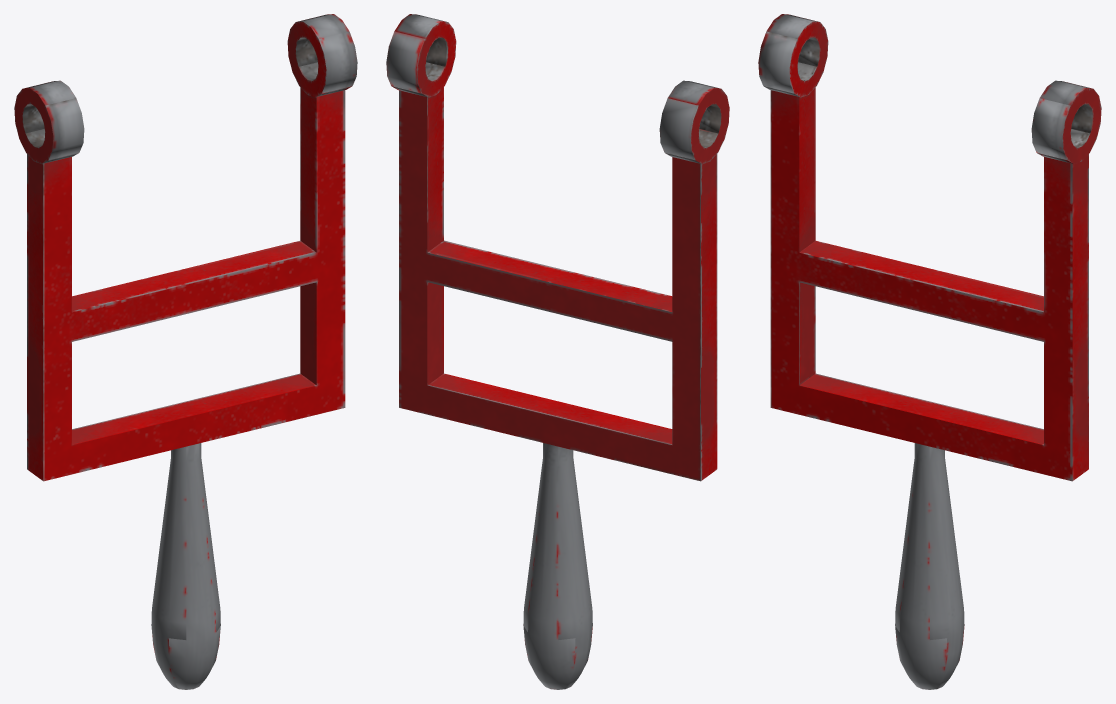
The model's file is GeneratorSwitch.fbx.
The picture shows the model from 3 angles, left to right: view 1: azimuth 30°, elevation 25°; view 2: azimuth 150°, elevation 25°; view 3: azimuth 330°, elevation 25°; orthographic projection.
Parts seen in each view (by area): view 1: GeneratorSwitch; view 2: GeneratorSwitch; view 3: GeneratorSwitch.
Part boxes in pixels (left/top/right/bottom): GeneratorSwitch: left=14, top=14, right=357, bottom=689; GeneratorSwitch: left=386, top=14, right=729, bottom=689; GeneratorSwitch: left=758, top=14, right=1101, bottom=689.
Size of the model in its own units: 0.2072 by 0.4096 by 0.046.
1 material, 1 textured.
